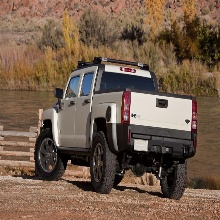no damage: (33, 58, 199, 199)
